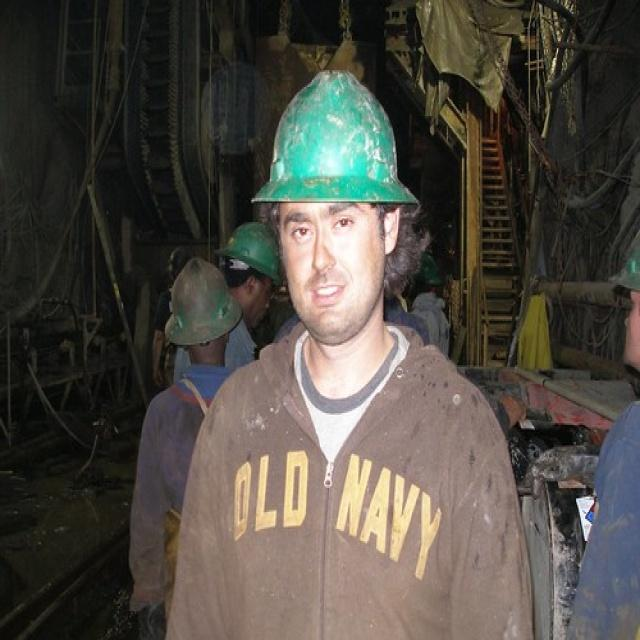helmet: (247, 87, 419, 276), (165, 341, 244, 467), (219, 293, 283, 384), (607, 294, 639, 394), (411, 340, 442, 383)
